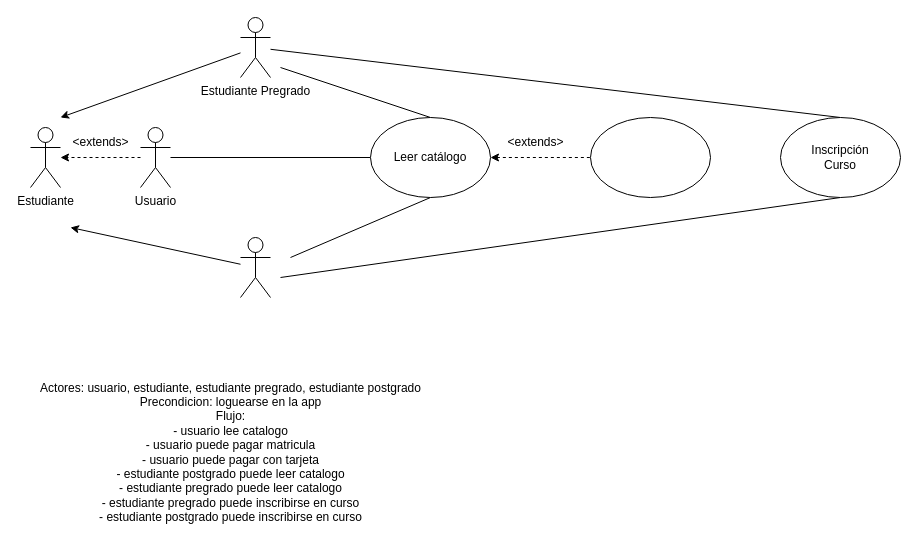
Image size: 918x550. Some labels were removed from this diagram. The box of each missing label's shape, as (x1, y1, x2, y2) in pixels:
Estudiante Postgrado: (240, 236, 270, 298)
Pagar matricula: (590, 116, 710, 198)
